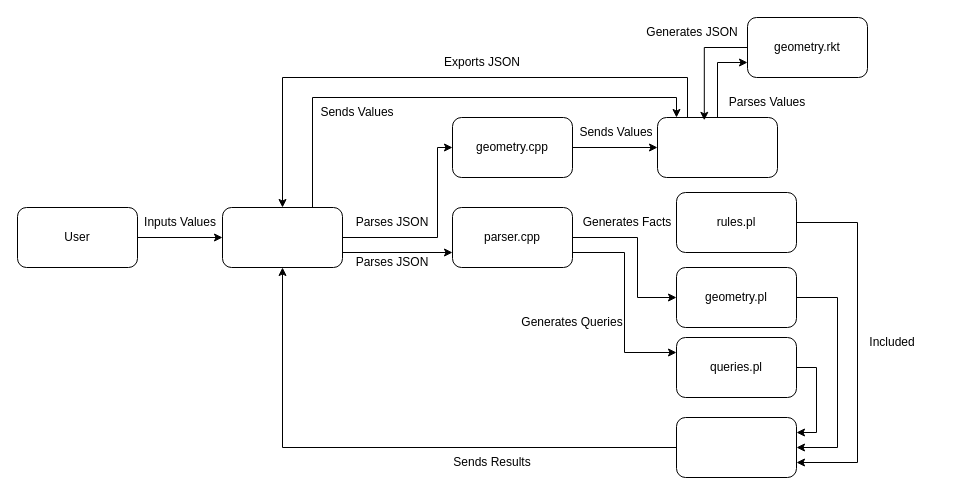
Some shapes in this 955 by 495 pixel diagram are drawn without their labels. Each missing label, with the centre of its shape:
export-geometry.rkt: the point at 717,147
main.cpp Event Broker: the point at 282,237
main.pl: the point at 736,447
